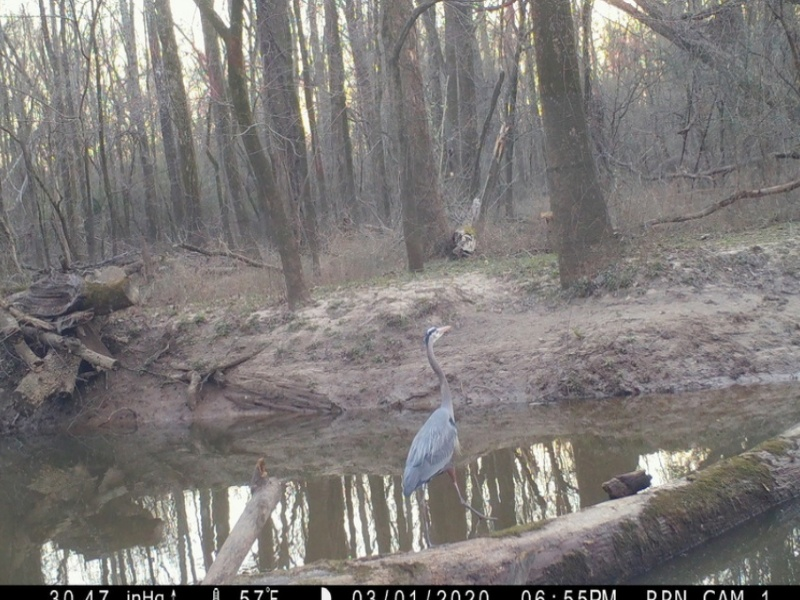heron: (393, 320, 504, 537)
